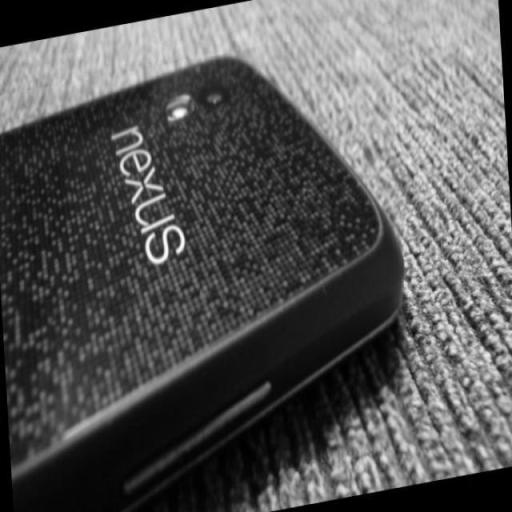phone: (1, 45, 422, 511)
